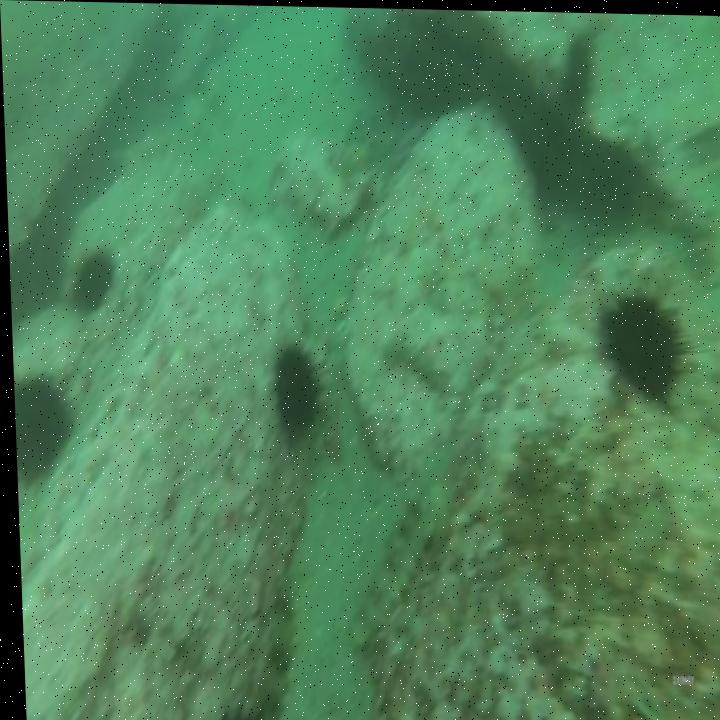echinus: (595, 273, 684, 410), (10, 361, 74, 486), (269, 335, 322, 438), (65, 245, 121, 322), (559, 27, 595, 112)
holothurian: (343, 471, 448, 655), (380, 328, 444, 395)
